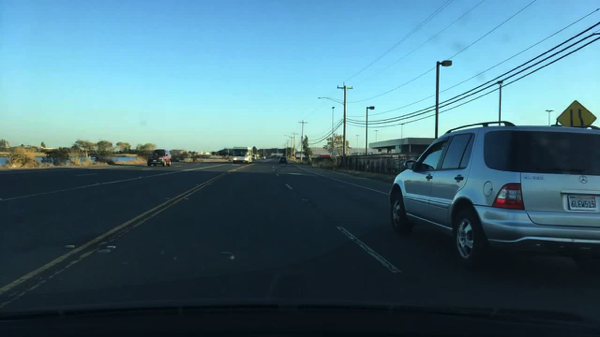bus: (233, 147, 254, 163)
car: (389, 121, 599, 270), (146, 148, 172, 167), (279, 157, 287, 164)
traffic sign: (556, 100, 595, 129)
